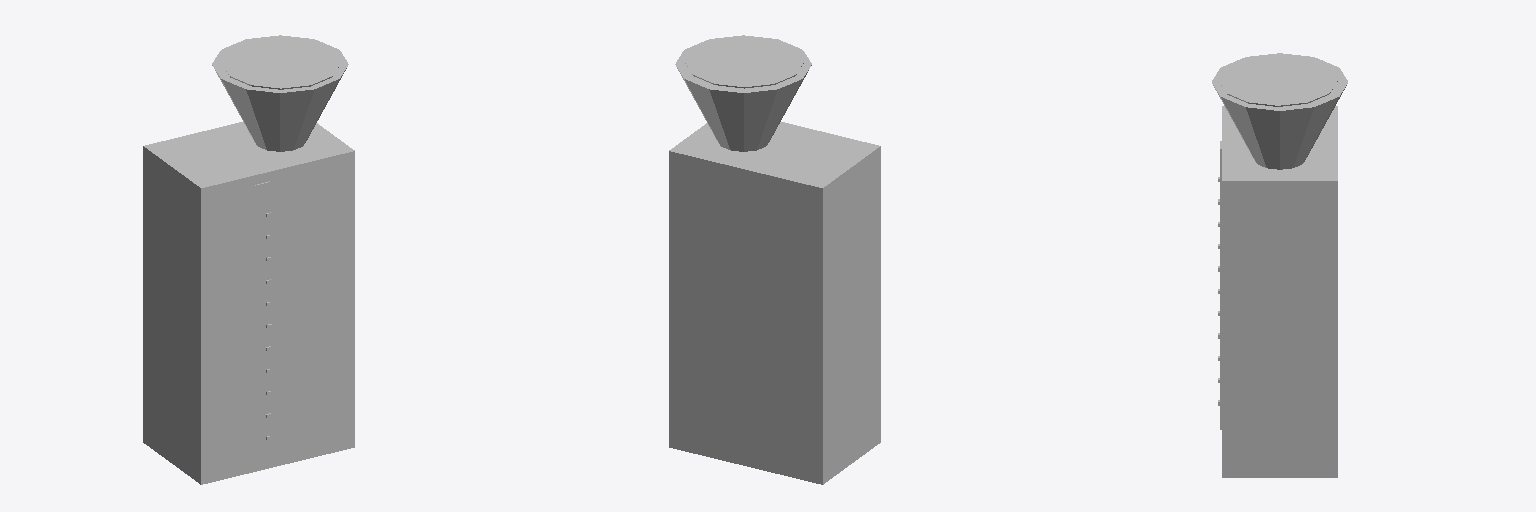
The model's file is FuelReceptacle.obj.
The picture shows the model from 3 angles: view 1: azimuth 30°, elevation 25°; view 2: azimuth 150°, elevation 25°; view 3: azimuth 270°, elevation 25°; orthographic projection.
Parts seen in each view (by area): view 1: group[number redacted]; view 2: group[number redacted]; view 3: group[number redacted].
Boxes of the visible parts, <box> form: group[number redacted]: <box>143,35,354,484</box>; group[number redacted]: <box>669,35,880,484</box>; group[number redacted]: <box>1212,53,1347,477</box>.
Size of the model in its own units: 1.1 by 2.35 by 0.78.